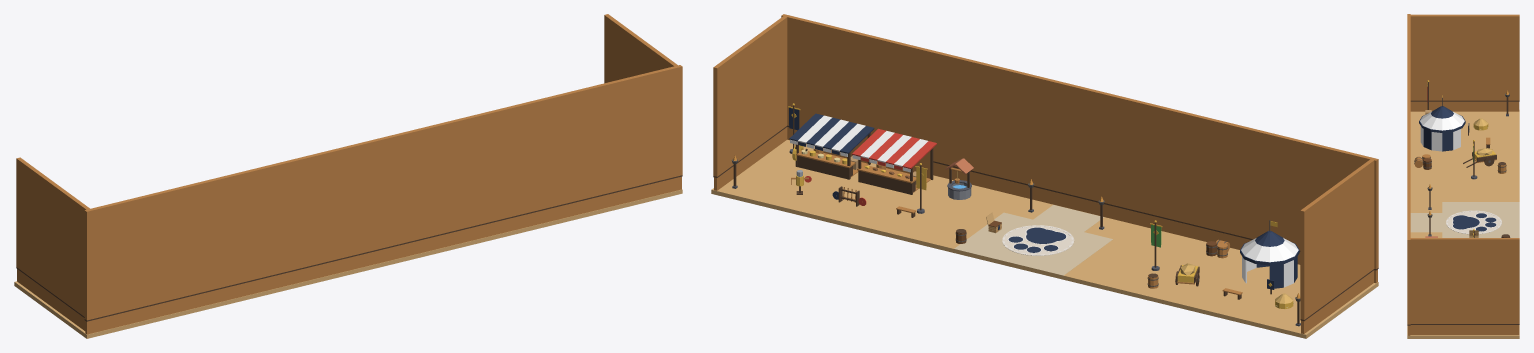
File: CatCafe_Camp_Castle.glb
3 renders of one model, left to right at view 1: azimuth 30°, elevation 25°; view 2: azimuth 150°, elevation 25°; view 3: azimuth 270°, elevation 25°, orthographic. The views are drawn at different scales.
Parts seen in each view (by area): view 1: CatCafe_Camp_Castle_Barrier, CatCafe_Camp_Castle; view 2: CatCafe_Camp_Castle_Barrier, CatCafe_Camp_Castle, CatCafe_Camp_Castle_001_MarketStall, CatCafe_Camp_Castle_002_MarketStall, CatCafe_Camp_Castle_004_Pavilion, CatCafe_Camp_Castle_003_Well; view 3: CatCafe_Camp_Castle_Barrier, CatCafe_Camp_Castle, CatCafe_Camp_Castle_004_Pavilion, CatCafe_Camp_Castle_007_HayCart, CatCafe_Camp_Castle_005_Barrels, CatCafe_Camp_Castle_008_Haystack, CatCafe_Camp_Castle_023_Barrel.
Part boxes in pixels (<box>): CatCafe_Camp_Castle_Barrier: <box>16,14,682,320</box>; CatCafe_Camp_Castle: <box>14,175,682,338</box>; CatCafe_Camp_Castle_Barrier: <box>713,14,1378,319</box>; CatCafe_Camp_Castle: <box>711,125,1378,338</box>; CatCafe_Camp_Castle_001_MarketStall: <box>852,128,936,194</box>; CatCafe_Camp_Castle_002_MarketStall: <box>789,113,874,179</box>; CatCafe_Camp_Castle_004_Pavilion: <box>1240,220,1299,294</box>; CatCafe_Camp_Castle_003_Well: <box>945,158,973,199</box>; CatCafe_Camp_Castle_Barrier: <box>1407,14,1519,324</box>; CatCafe_Camp_Castle: <box>1407,100,1519,338</box>; CatCafe_Camp_Castle_004_Pavilion: <box>1419,95,1469,151</box>; CatCafe_Camp_Castle_007_HayCart: <box>1463,148,1496,167</box>; CatCafe_Camp_Castle_005_Barrels: <box>1414,154,1431,169</box>; CatCafe_Camp_Castle_008_Haystack: <box>1473,118,1488,130</box>; CatCafe_Camp_Castle_023_Barrel: <box>1497,162,1506,173</box>.
Size of the model in its own units: 152 by 31 by 32.
1 material, 1 textured.
